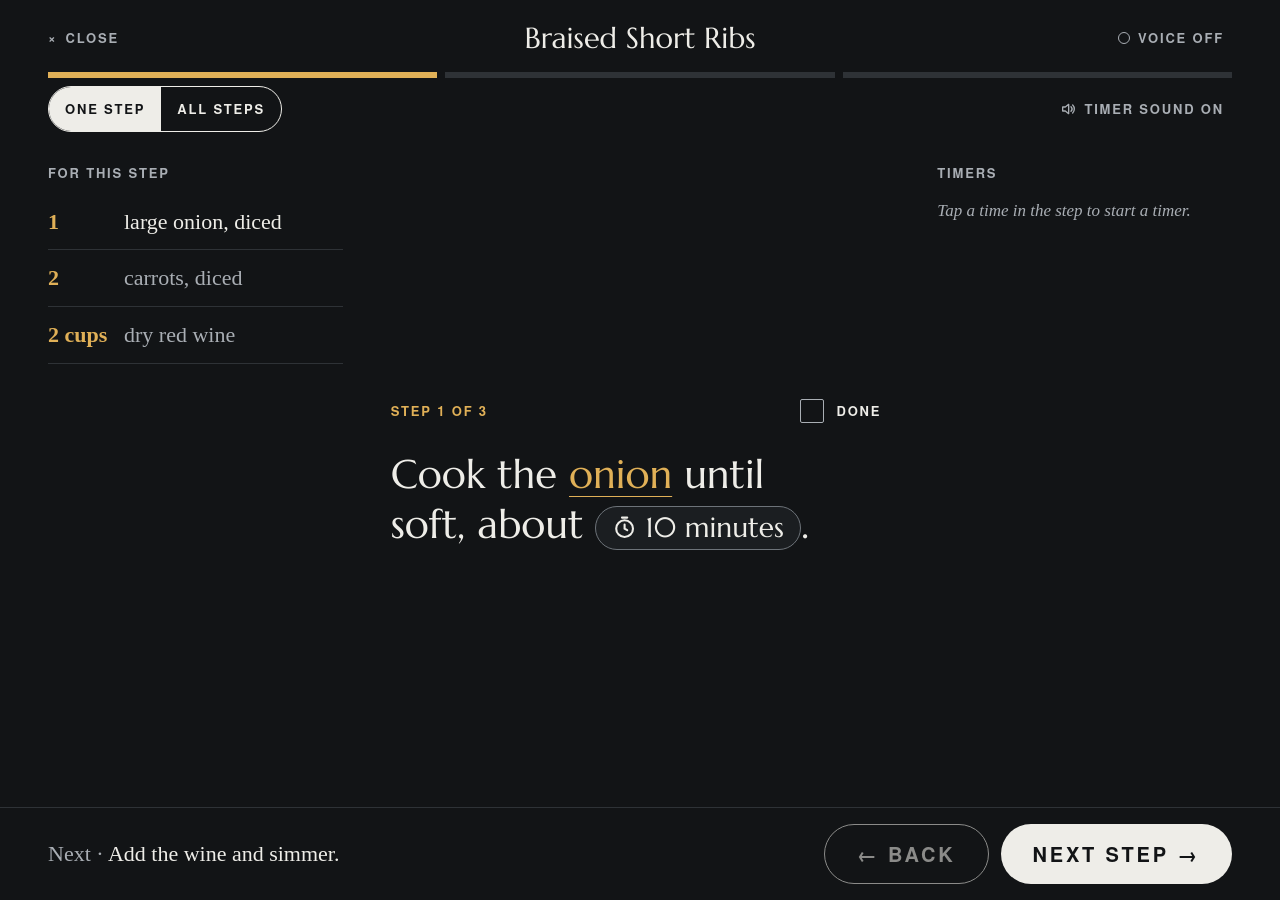
it: CookMode › hears commands, survives no-speech, restarts after a pause, stops when denied and cleans up
The width and height of the screenshot is (1280, 900).
Click the button "Voice off" at x=1171, y=38, box [1110,16,1232,60]
Wait 300 ms
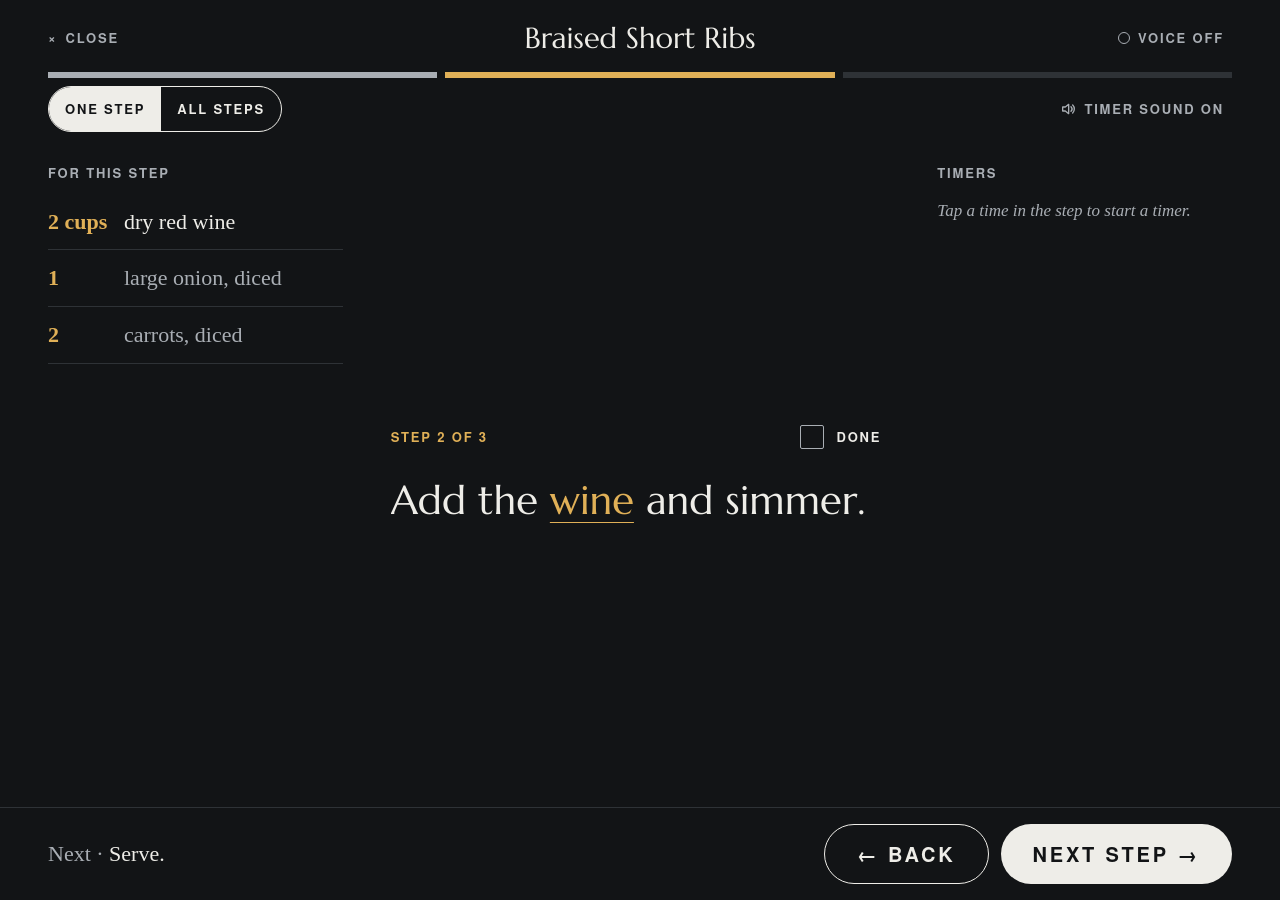
Now the message "Cook the onion until soft, about 10 minutes ." no longer shows "Cook the onion until soft, about 10 minutes."
Now the text "Step 2 of 3" is shown, box [391,428,488,445]
